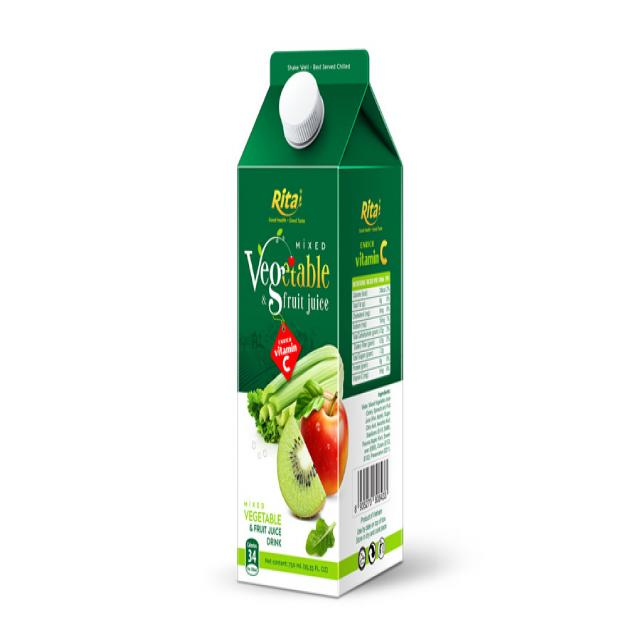non_white_jug: (226, 28, 425, 611)
